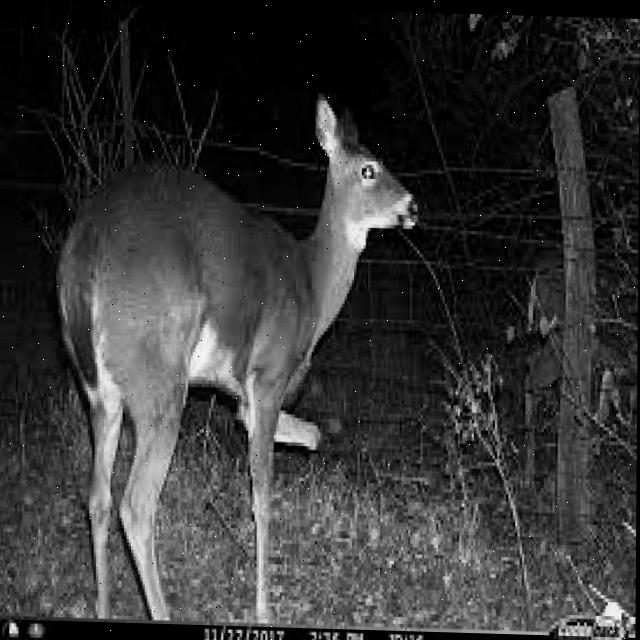Deer: (30, 70, 422, 628)
